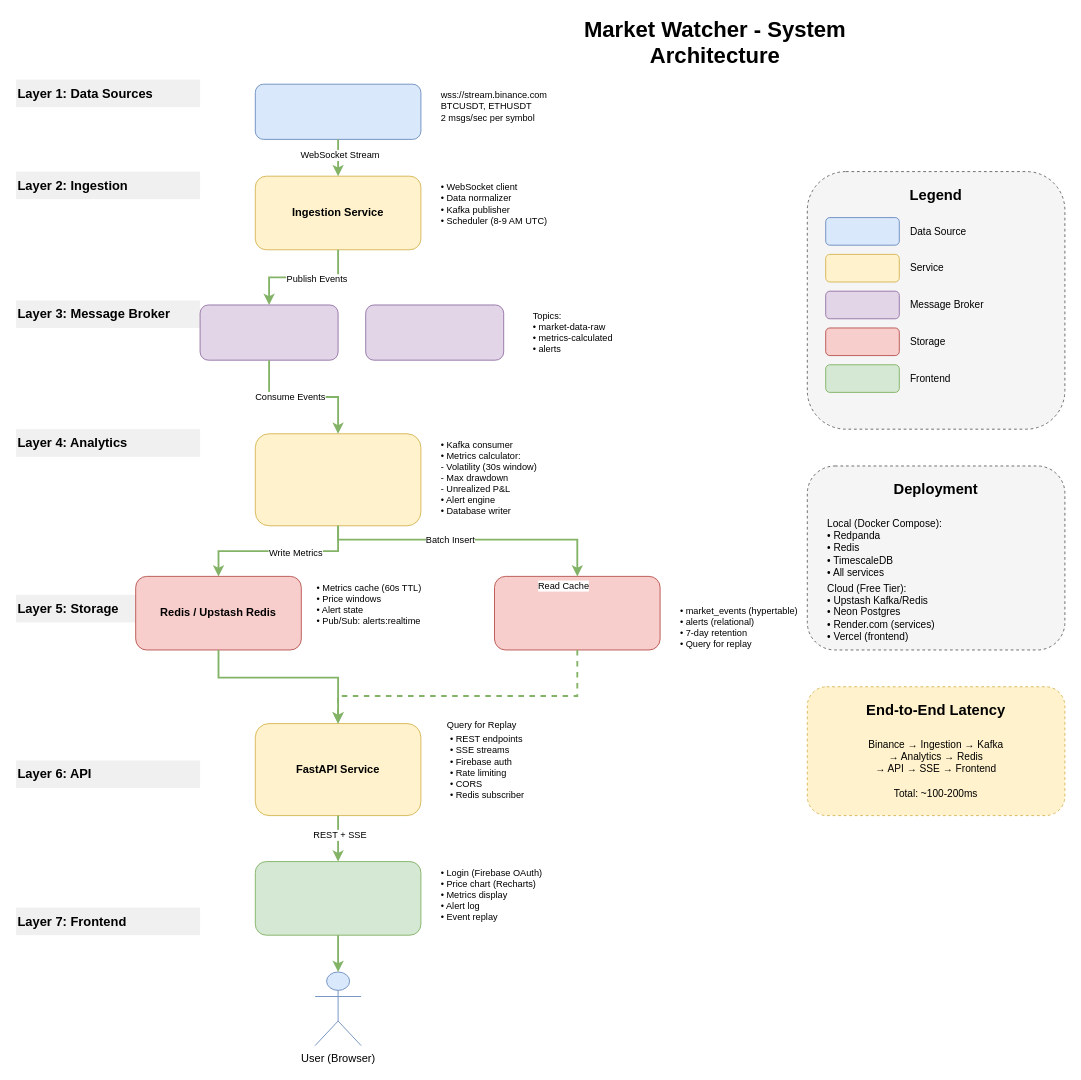
Image size: 1081x1080. Some labels were removed from this diagram. Each missing label, with the centre of its shape:
"Analytics Service" belongs at (x=337, y=479).
"Binance WebSocket API" belongs at (x=337, y=111).
"React Frontend (Vercel)" belongs at (x=337, y=898).
"Redpanda (Local)" belongs at (x=268, y=332).
"TimescaleDB / Neon" belongs at (x=577, y=612).
"Upstash Kafka (Cloud)" belongs at (x=434, y=332).
